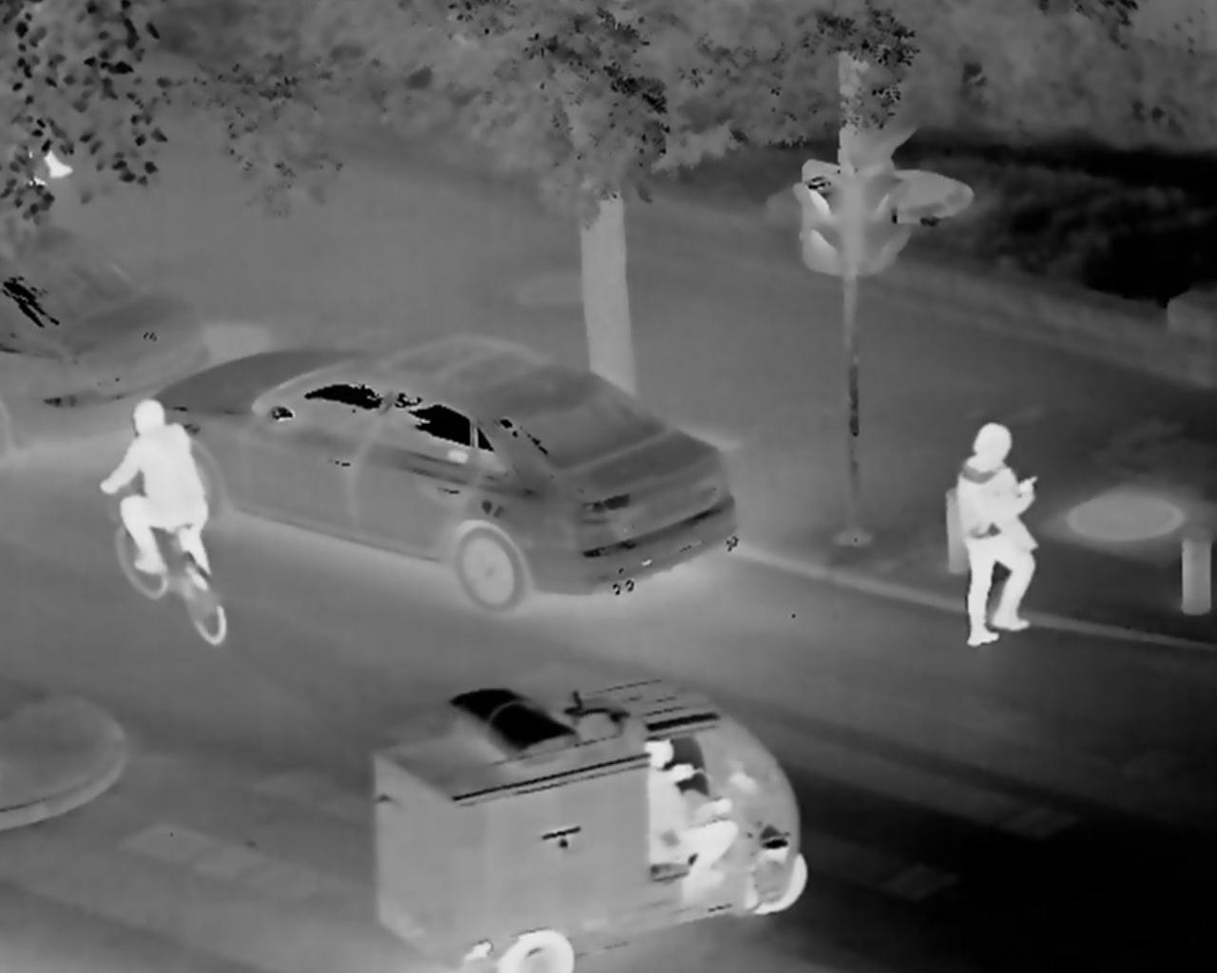person: (96, 391, 222, 632), (943, 419, 1044, 635), (647, 721, 748, 910)
